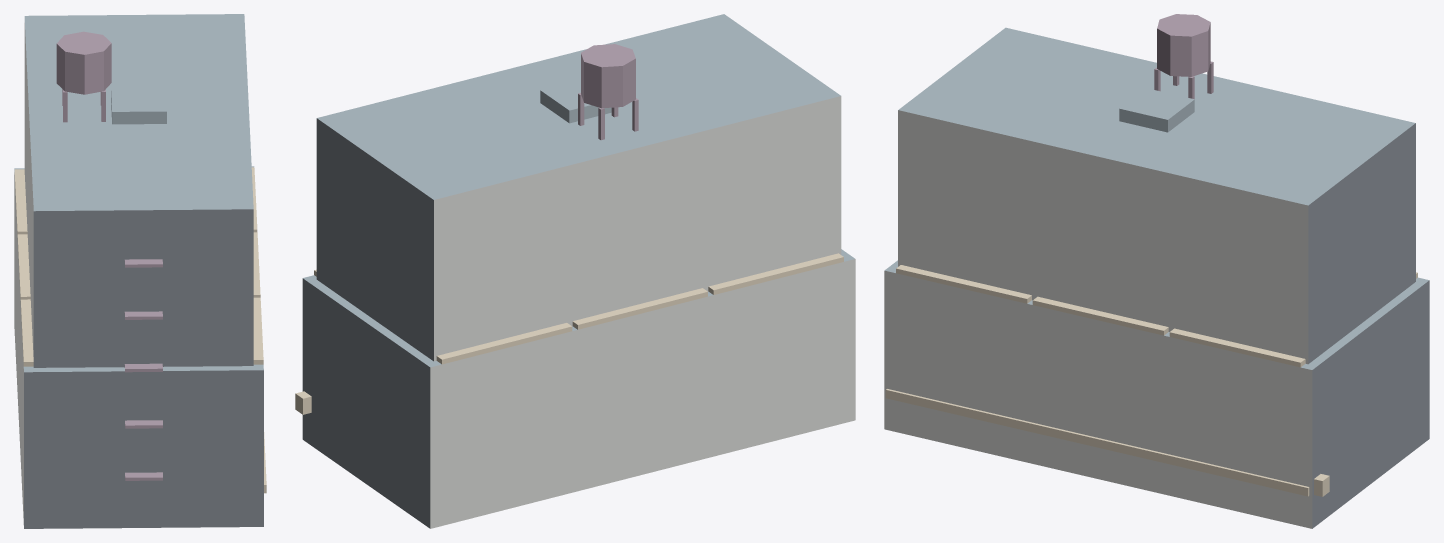
The model's file is doitt-460555__lod_1.glb.
The picture shows the model from 3 angles, left to right: view 1: azimuth 30°, elevation 25°; view 2: azimuth 150°, elevation 25°; view 3: azimuth 270°, elevation 25°; orthographic projection. The views are drawn at different scales.
Bounding box in the file's own units: 28.16 × 26.77 × 34.06.
